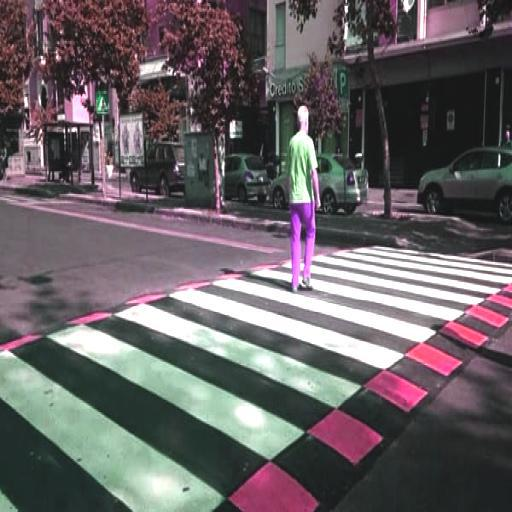crosswalk: (40, 296, 370, 470)
